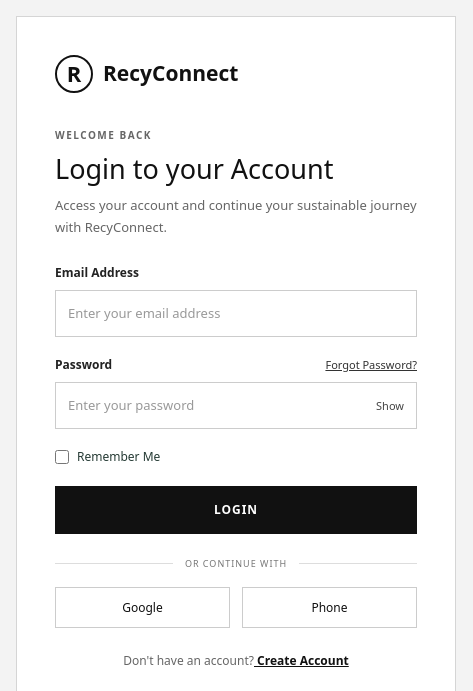
Test case: Login Component › shows the password when Show button is clicked
Click the button with aria-label "Show password" at [390, 406], box [371,392,409,420]
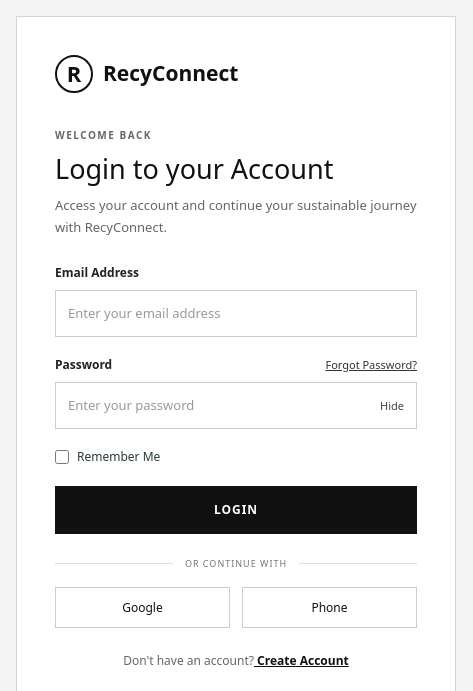
Expected: the button with aria-label "Hide password" is shown, [375,392,409,420]
